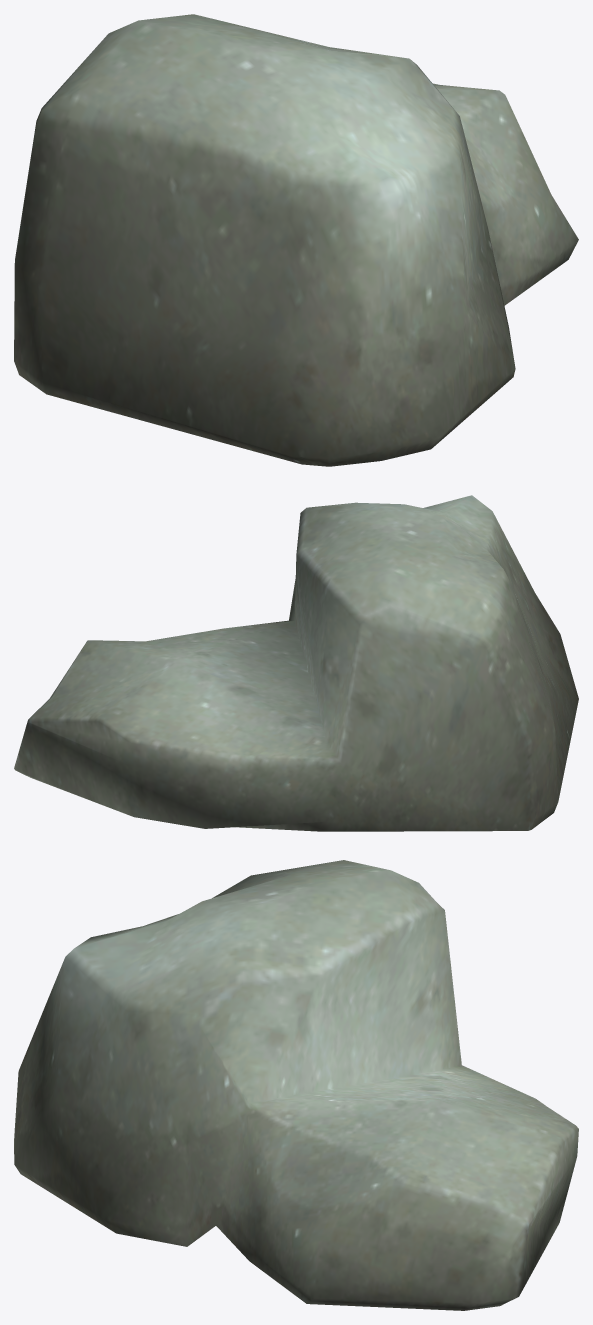
The model's file is stoneE.glb.
3 renders of one model, top to bottom at view 1: azimuth 30°, elevation 25°; view 2: azimuth 150°, elevation 25°; view 3: azimuth 270°, elevation 25°, orthographic. The views are drawn at different scales.
Parts seen in each view (by area): view 1: stoneE__mStoneE; view 2: stoneE__mStoneE; view 3: stoneE__mStoneE.
Boxes of the visible parts, <box> form: stoneE__mStoneE: <box>14,14,578,466</box>; stoneE__mStoneE: <box>14,495,578,831</box>; stoneE__mStoneE: <box>14,860,578,1310</box>.
Bounding box in the file's own units: 9.99 × 5.16 × 9.78.
Materials: 1 (1 with a texture image).
